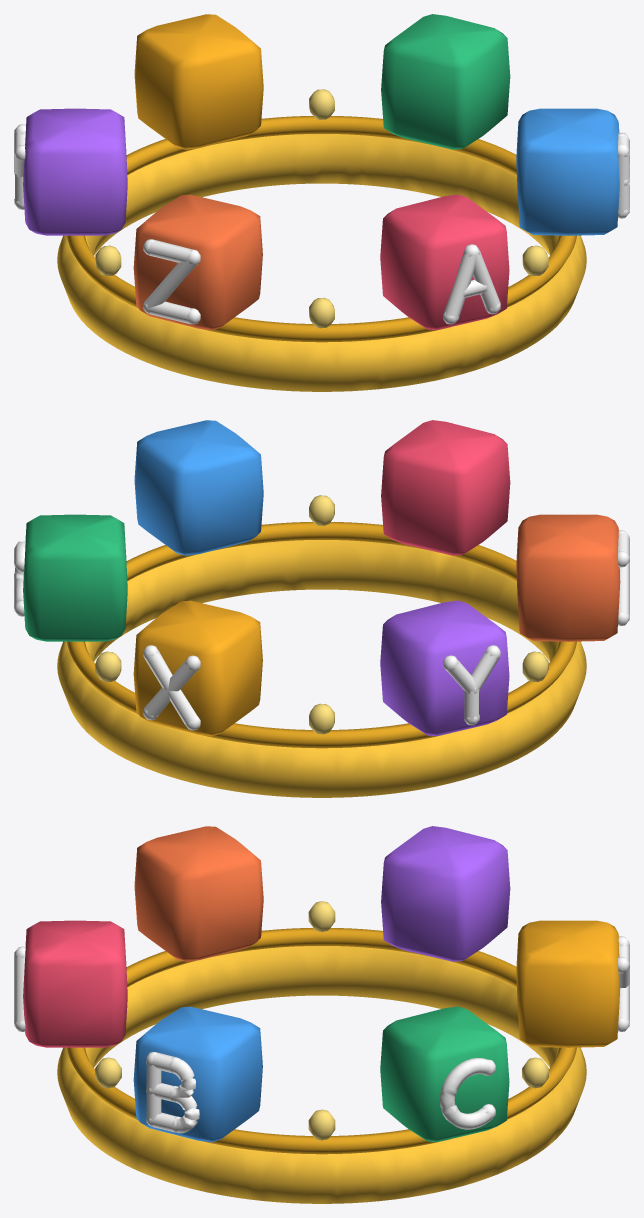
File: head_bxabc.glb
The picture shows the model from 3 angles, top to bottom: view 1: azimuth 30°, elevation 25°; view 2: azimuth 150°, elevation 25°; view 3: azimuth 270°, elevation 25°; orthographic projection.
Parts seen in each view (by area): view 1: bxabc, bxabc_X, bxabc_C, bxabc_Z, bxabc_A, bxabc_B, bxabc_Y; view 2: bxabc, bxabc_B, bxabc_A, bxabc_X, bxabc_Y, bxabc_Z, bxabc_C; view 3: bxabc, bxabc_Z, bxabc_B, bxabc_Y, bxabc_C, bxabc_X, bxabc_A.
Part boxes in pixels (bbox=[...]): bxabc: bbox=[57, 89, 586, 391]; bxabc_X: bbox=[134, 14, 263, 149]; bxabc_C: bbox=[381, 14, 510, 149]; bxabc_Z: bbox=[133, 194, 262, 330]; bxabc_A: bbox=[380, 194, 509, 329]; bxabc_B: bbox=[516, 108, 629, 235]; bxabc_Y: bbox=[14, 108, 127, 235]; bxabc: bbox=[57, 495, 586, 797]; bxabc_B: bbox=[134, 420, 263, 555]; bxabc_A: bbox=[381, 420, 510, 555]; bxabc_X: bbox=[133, 600, 262, 736]; bxabc_Y: bbox=[380, 600, 509, 735]; bxabc_Z: bbox=[516, 514, 629, 641]; bxabc_C: bbox=[14, 514, 127, 641]; bxabc: bbox=[57, 901, 586, 1203]; bxabc_Z: bbox=[134, 826, 263, 961]; bxabc_B: bbox=[133, 1006, 262, 1142]; bxabc_Y: bbox=[381, 826, 510, 961]; bxabc_C: bbox=[380, 1006, 509, 1141]; bxabc_X: bbox=[516, 920, 629, 1047]; bxabc_A: bbox=[14, 920, 127, 1047].
Bounding box in the file's own units: 2.78 × 0.8699 × 3.05.
